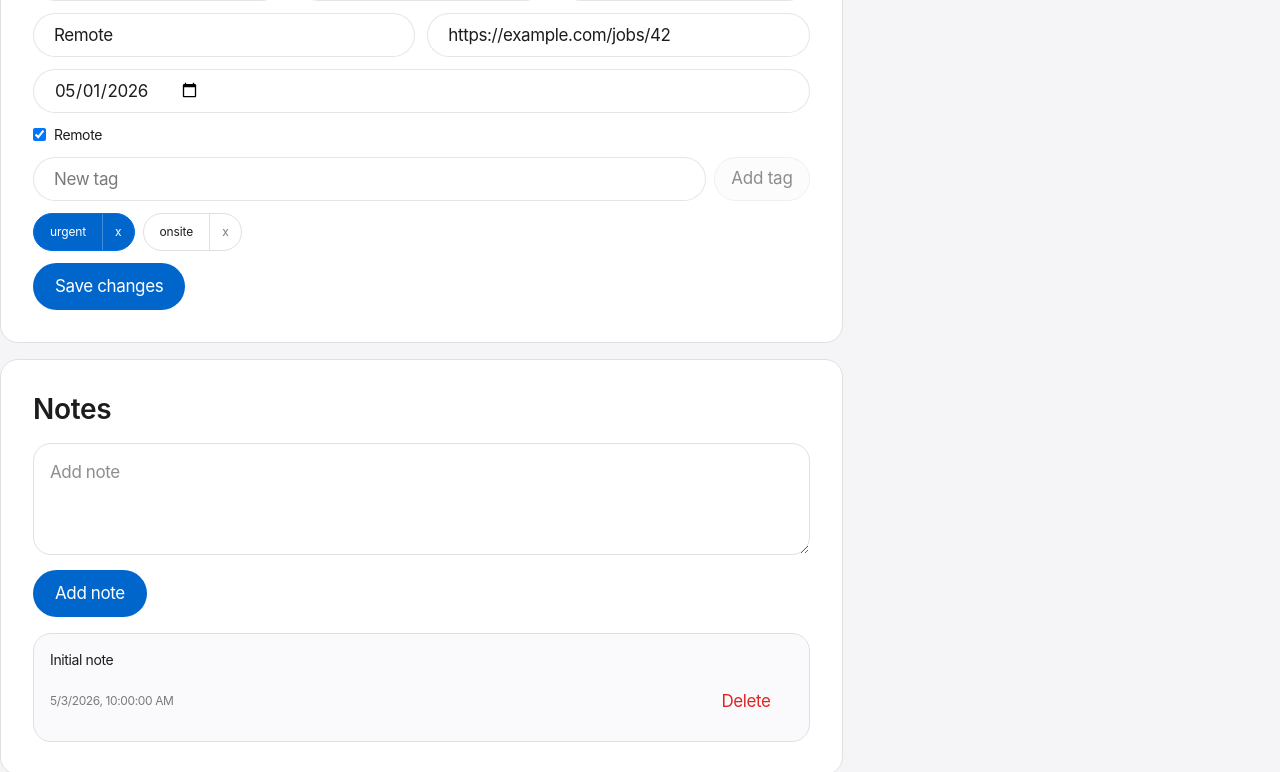
Scenario: ApplicationDetailPage › adds and deletes notes through api and updates ui
(page scrolled)
Type "Followed up" into the text box with placeholder "Add note".
click(421, 499); type("Followed up")  # box [33,443,810,555]
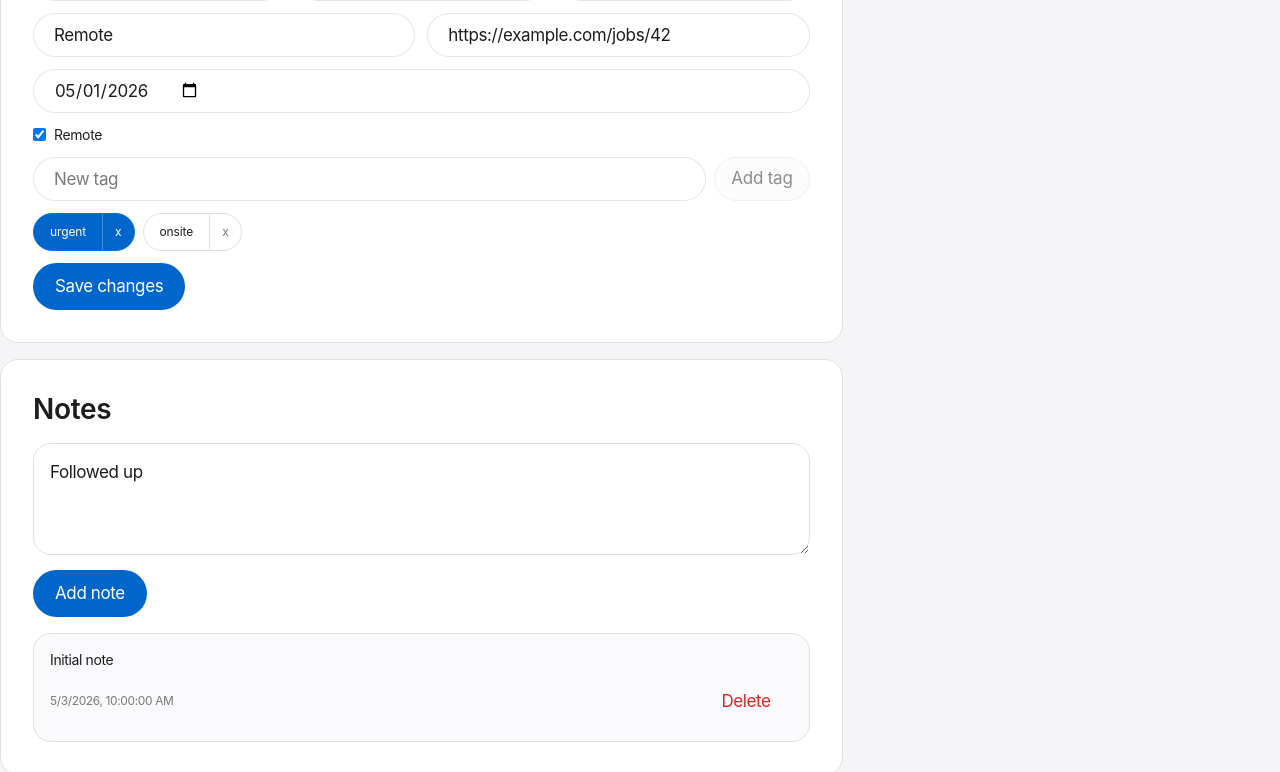
Click the button "Add note".
click(90, 594)  # box [33,570,147,617]
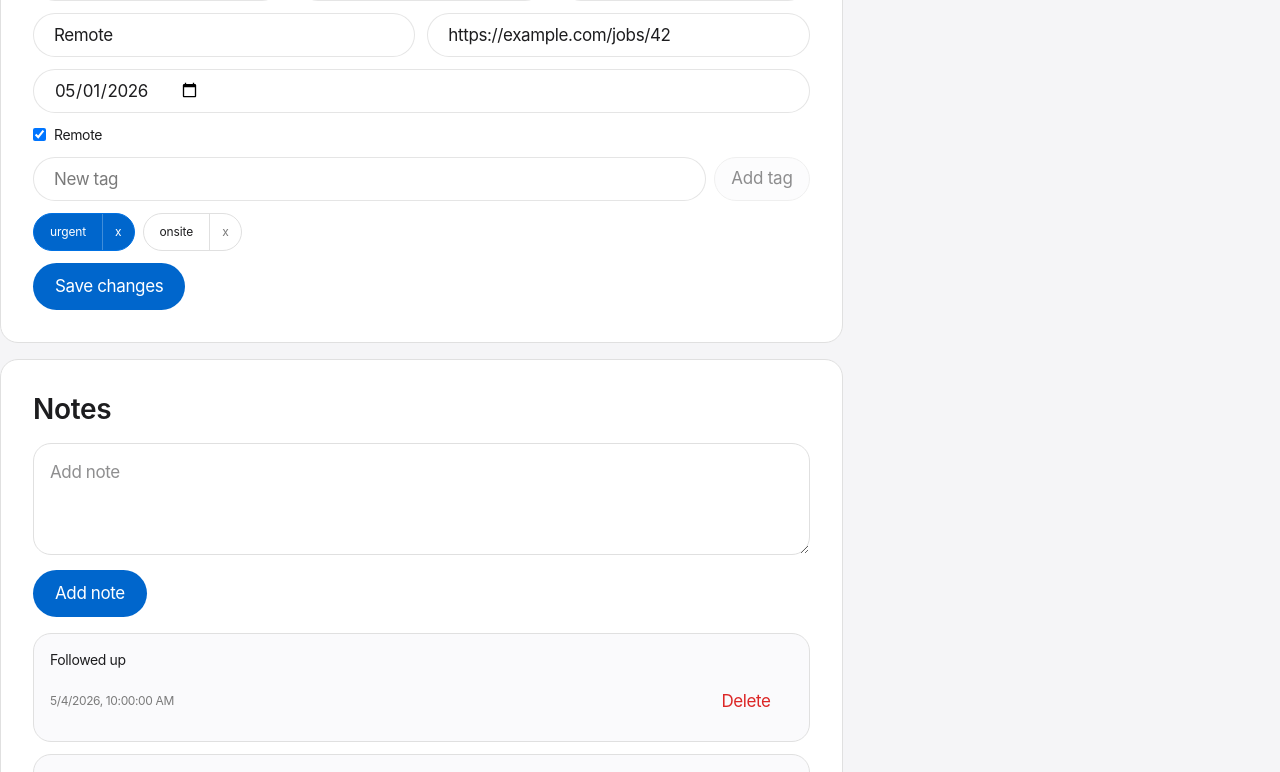
Check: the text "Followed up" is shown, box [50,651,126,668]
Click the button "Delete".
click(746, 701)  # box [699,678,793,725]
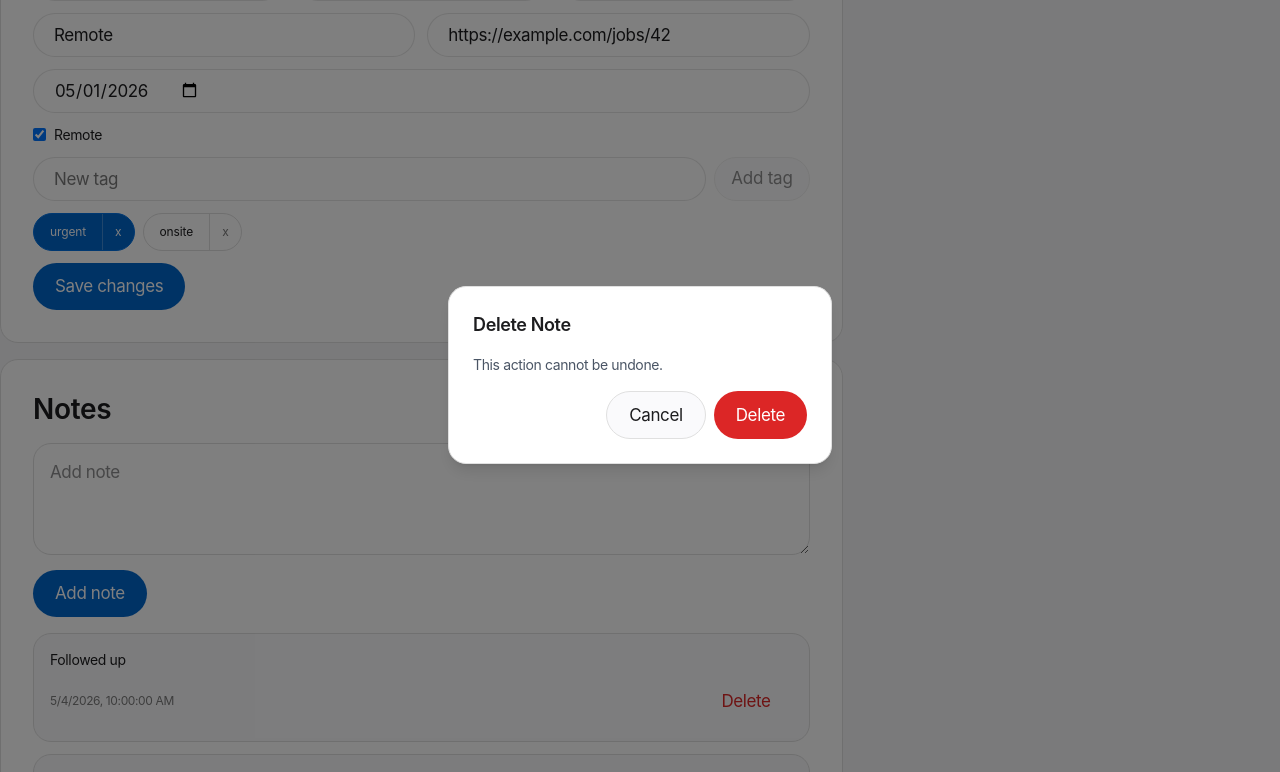
// Click confirm button in dialog
Click the button with test id "confirm-dialog-confirm".
click(760, 415)  # box [714,390,807,440]
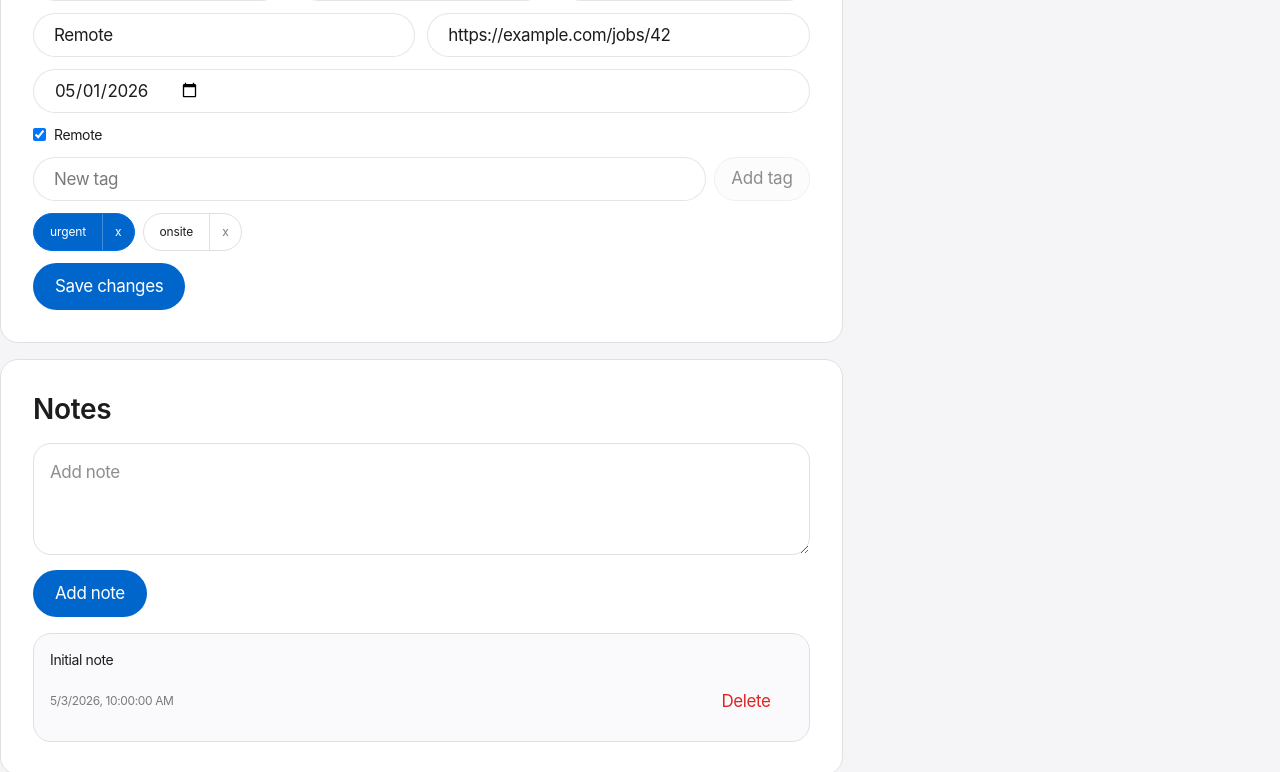
Check: the text "Followed up" is gone
